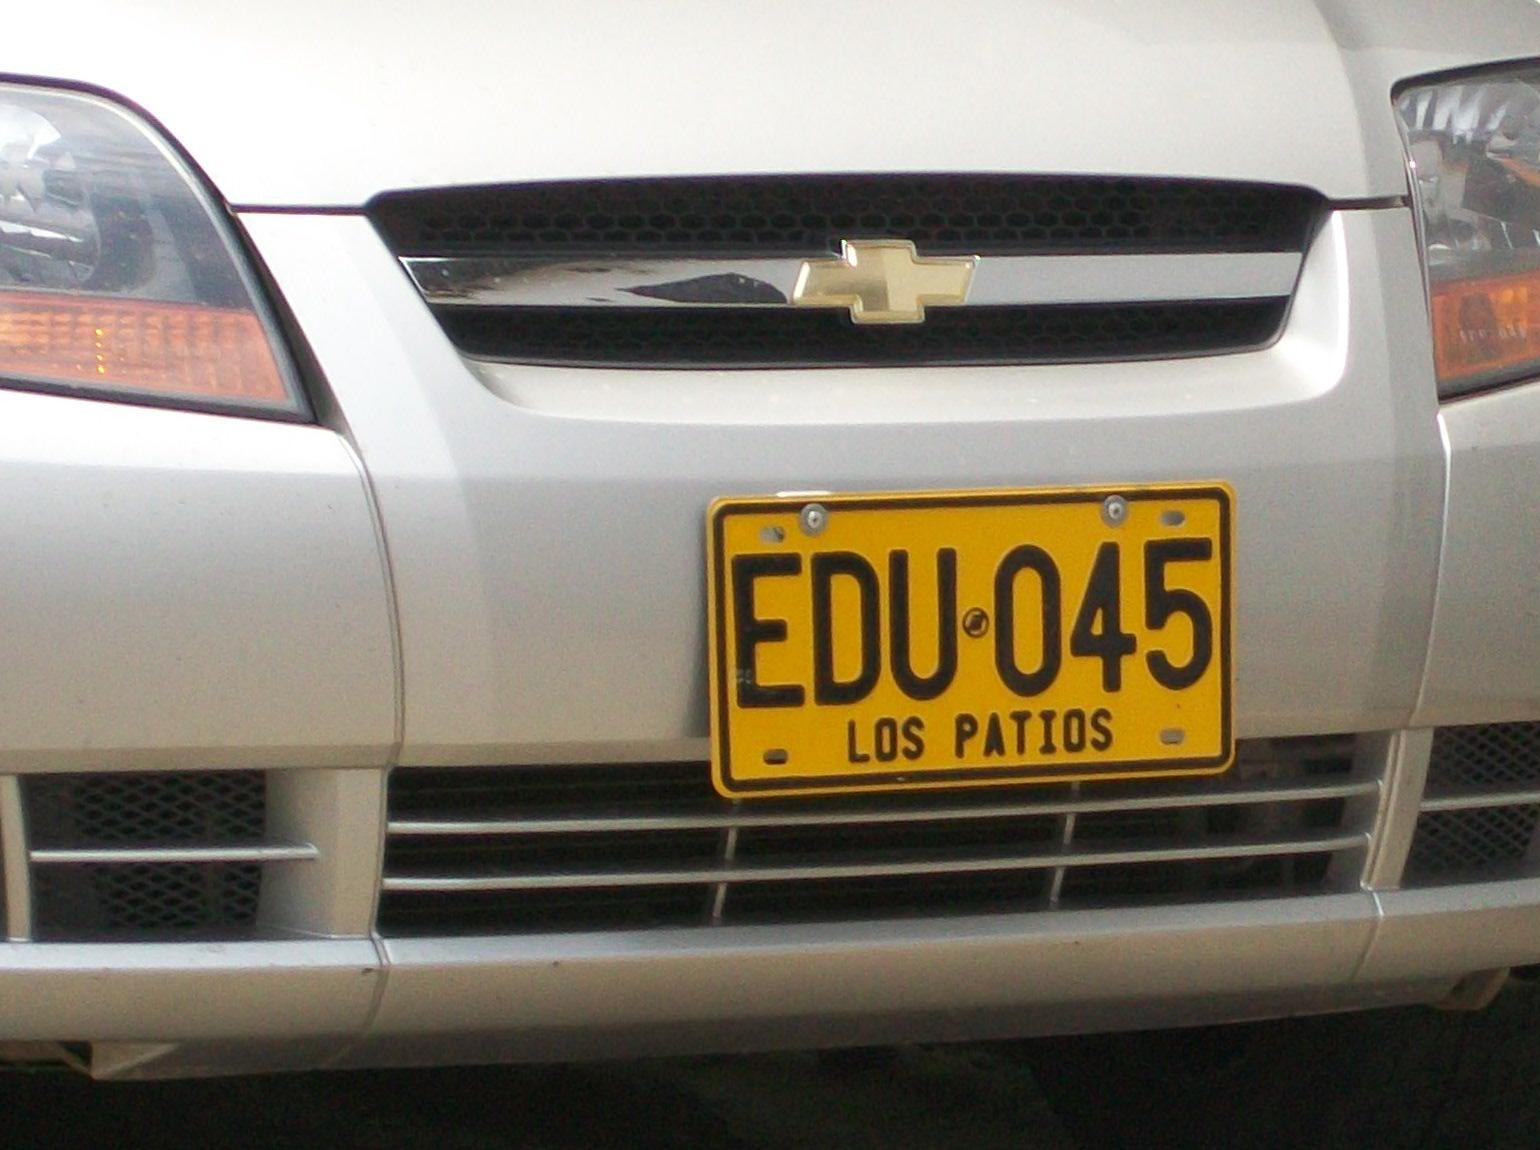placas: (698, 471, 1246, 806)
